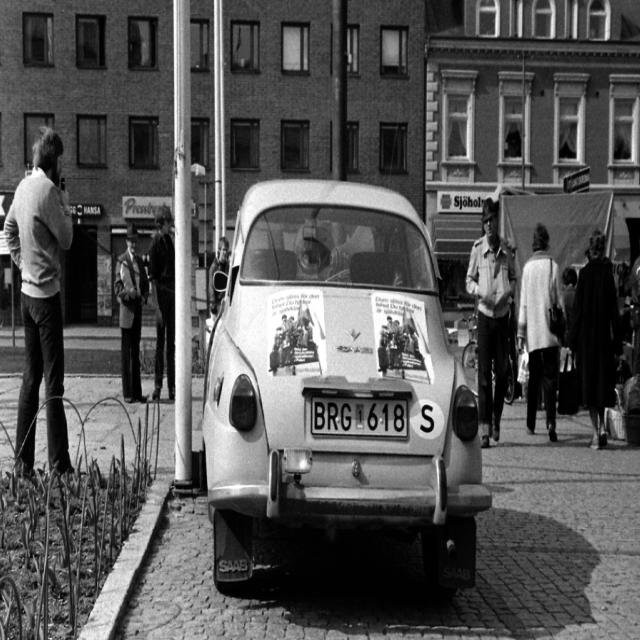car: (187, 167, 484, 601)
